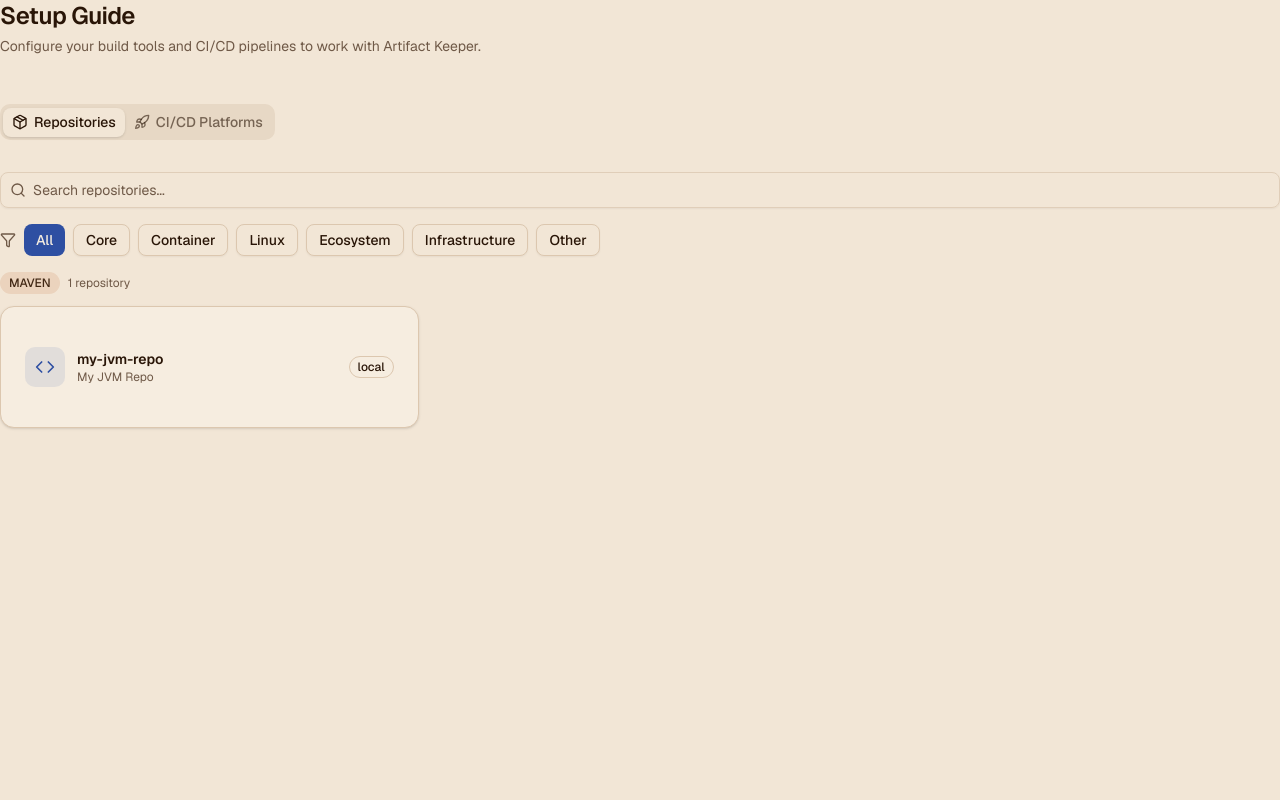
Scenario: SetupPage - JVM client variants › renders Maven, Gradle (Groovy), Gradle (Kotlin), and SBT tabs for a maven repo
expect the text "my-jvm-repo" is shown: met, box x1=77 y1=350 x2=163 y2=368
Click the text "my-jvm-repo": (209, 367) x1=0 y1=306 x2=419 y2=428
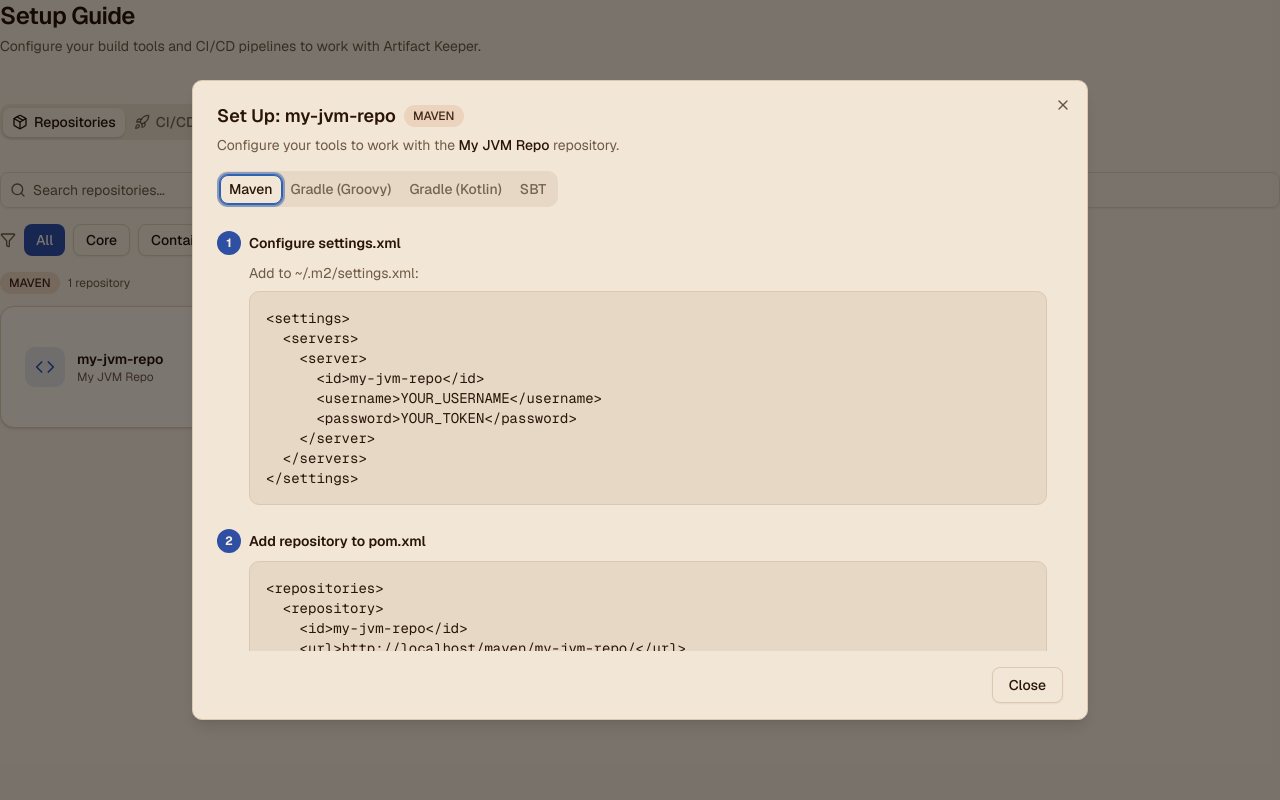
expect the heading "Set Up: my-jvm-repo maven" is shown: met, box x1=217 y1=104 x2=464 y2=127
expect the tab "Maven" is shown: met, box x1=220 y1=174 x2=282 y2=204
expect the tab "Gradle (Groovy)" is shown: met, box x1=282 y1=174 x2=400 y2=204
